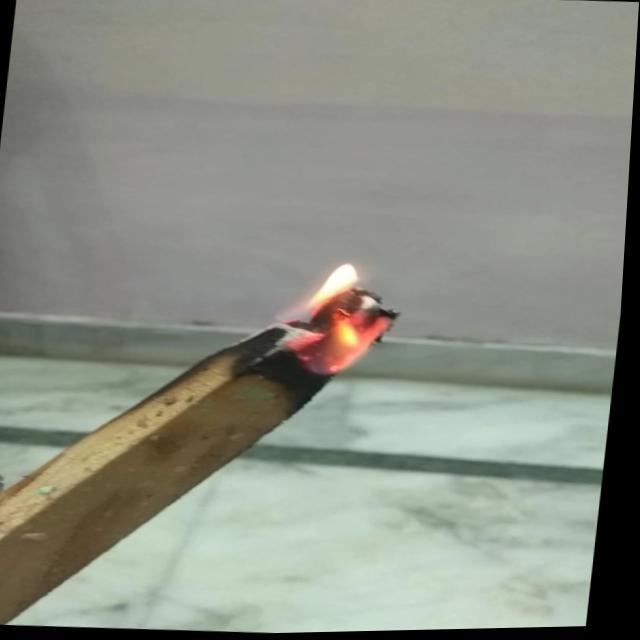fire: (277, 246, 418, 385)
